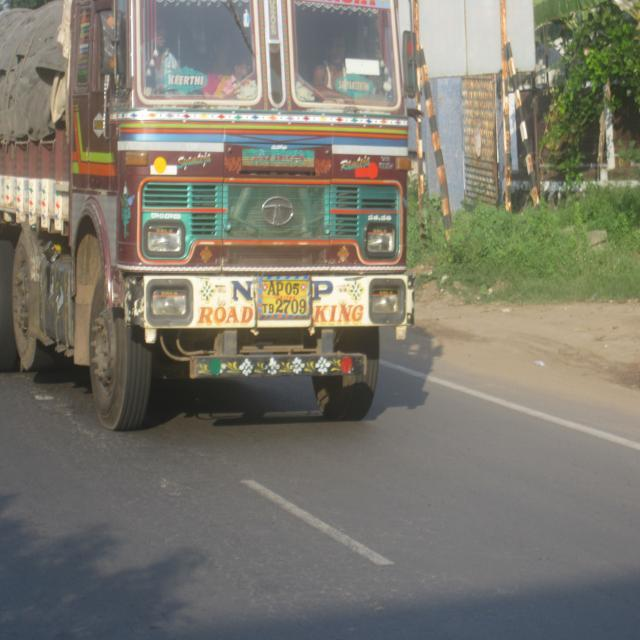truck_front: (4, 9, 420, 410)
